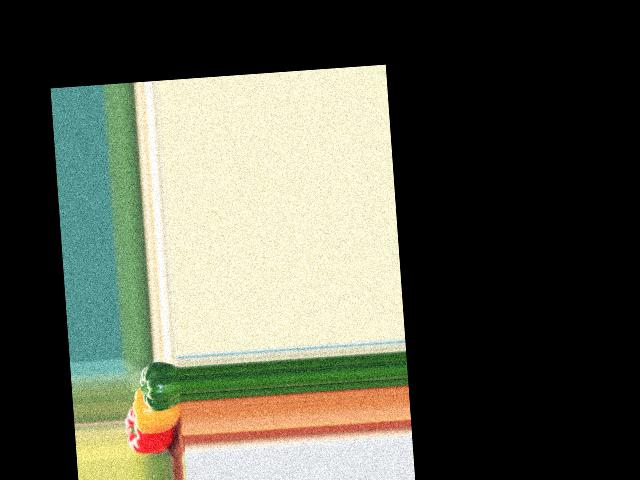bell_pepper: (124, 403, 182, 454)
